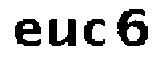6: (110, 4, 150, 50)
c: (81, 16, 111, 53)
e: (12, 16, 42, 51)
u: (45, 15, 79, 52)
